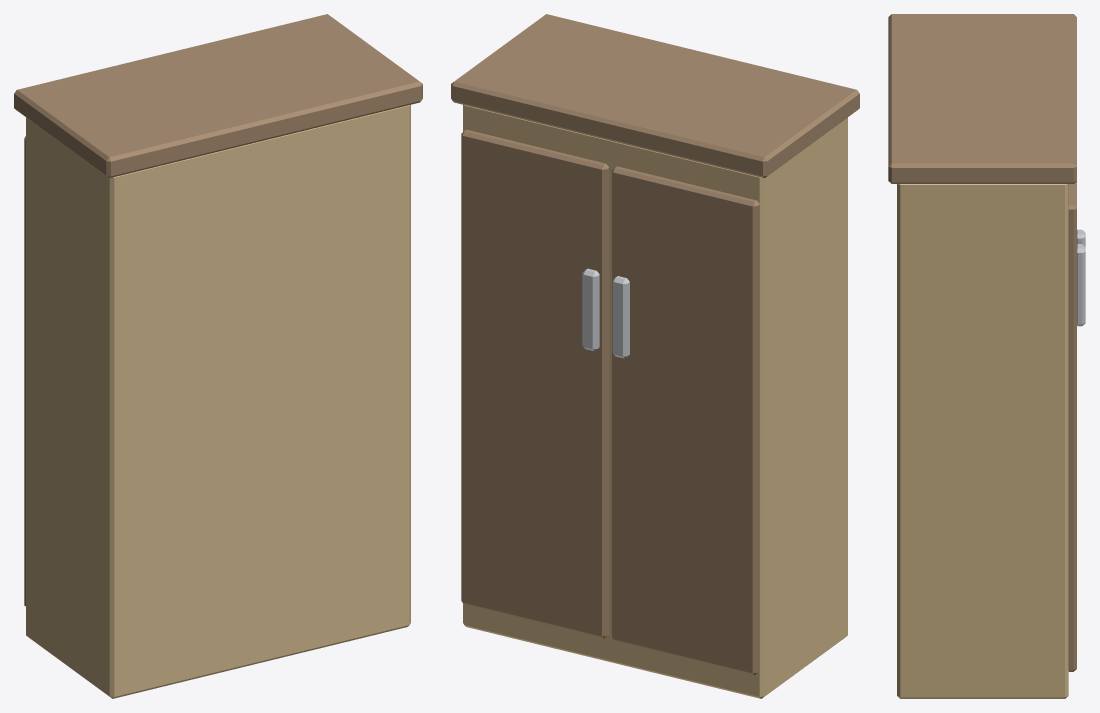
3 renders of one model, left to right at view 1: azimuth 30°, elevation 25°; view 2: azimuth 150°, elevation 25°; view 3: azimuth 270°, elevation 25°, orthographic.
Visible parts, largest first — view 1: 柜体, 顶线, 柜门; view 2: 柜门, 柜体, 顶线, 把手.001; view 3: 柜体, 顶线, 柜门, 把手.001.
Part boxes in pixels (x1,y1,x2,y2): 柜体: [26, 104, 410, 698]; 顶线: [14, 14, 422, 178]; 柜门: [24, 136, 25, 606]; 柜门: [461, 129, 759, 675]; 柜体: [463, 104, 847, 698]; 顶线: [451, 14, 859, 178]; 把手.001: [582, 268, 629, 358]; 柜体: [897, 184, 1068, 698]; 顶线: [888, 14, 1076, 183]; 柜门: [1068, 181, 1076, 671]; 把手.001: [1077, 229, 1085, 326].
Bounding box in the file's own units: 126 × 208 × 69.
